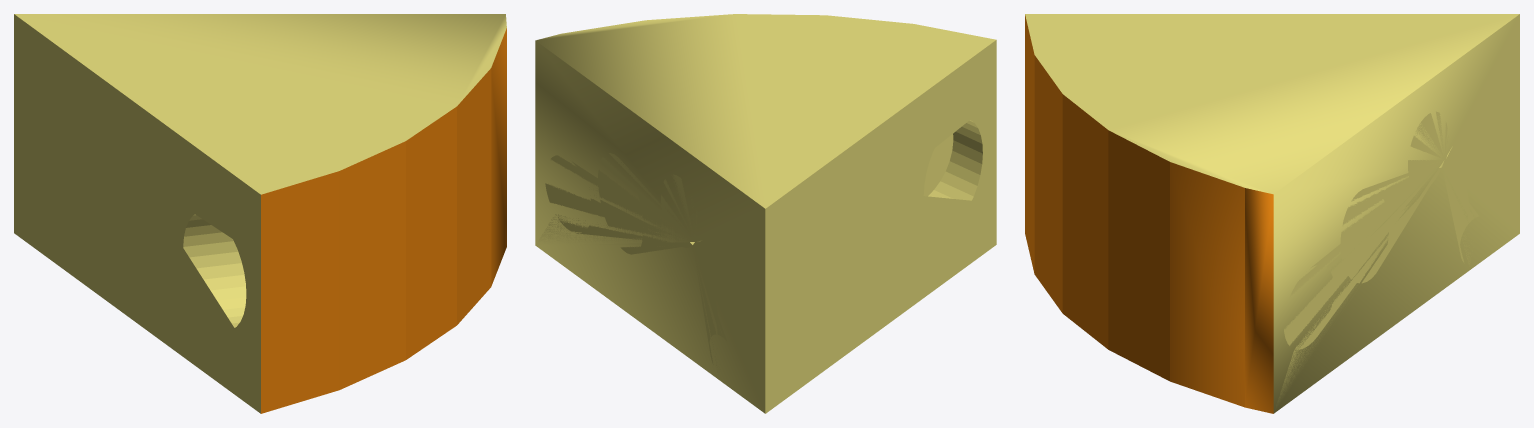
The model's file is baseCheese.fbx.
3 renders of one model, left to right at view 1: azimuth 30°, elevation 25°; view 2: azimuth 150°, elevation 25°; view 3: azimuth 270°, elevation 25°, orthographic. The views are drawn at different scales.
Visible parts, largest first — view 1: Cylinder.001; view 2: Cylinder.001; view 3: Cylinder.001.
Part boxes in pixels (x1,y1,x2,y2): Cylinder.001: (14, 14, 506, 413); Cylinder.001: (535, 14, 996, 413); Cylinder.001: (1025, 14, 1519, 413).
Bounding box in the file's own units: 153 × 86.93 × 178.
